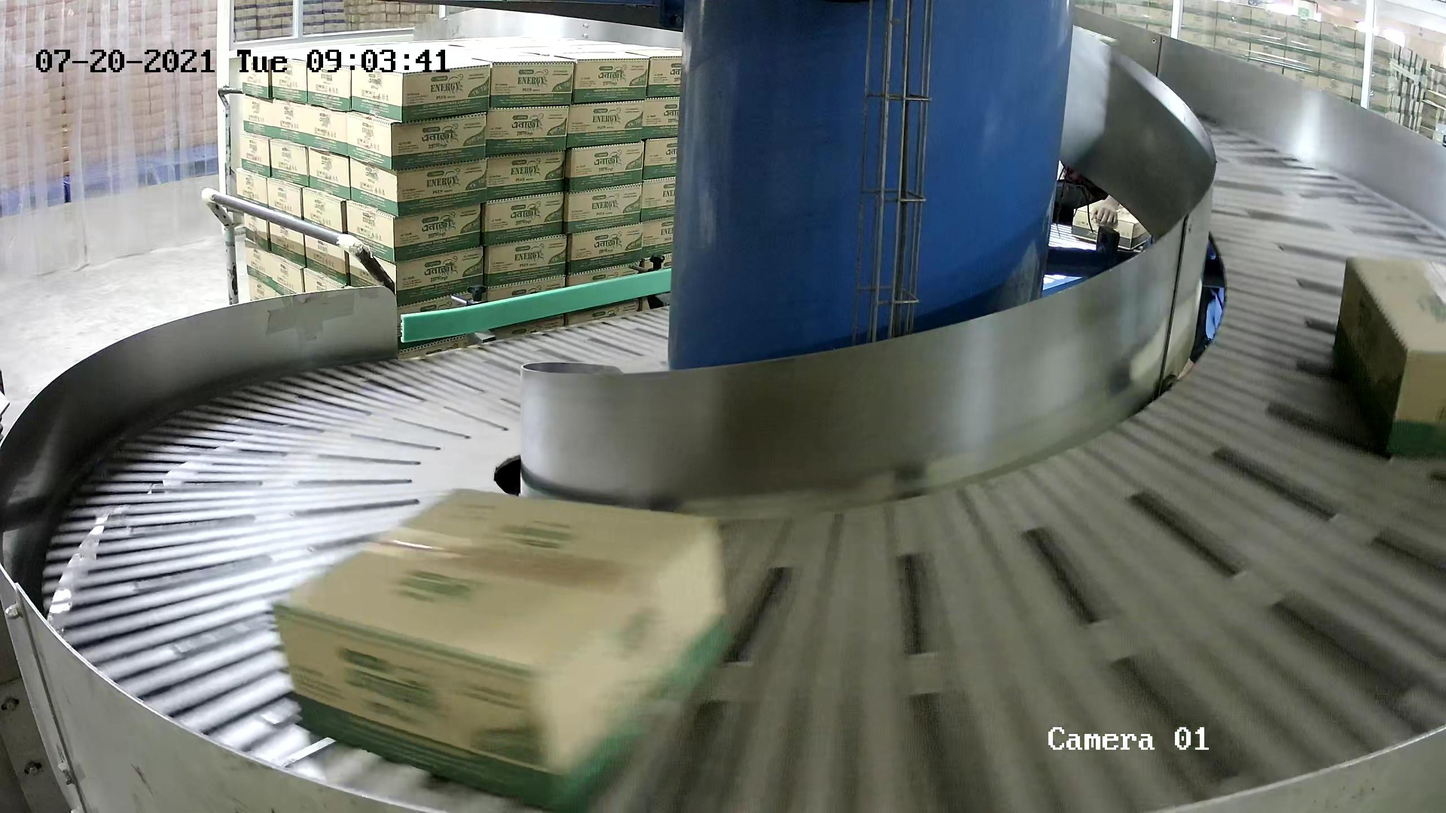Box: (266, 479, 741, 813), (1332, 254, 1446, 462)
